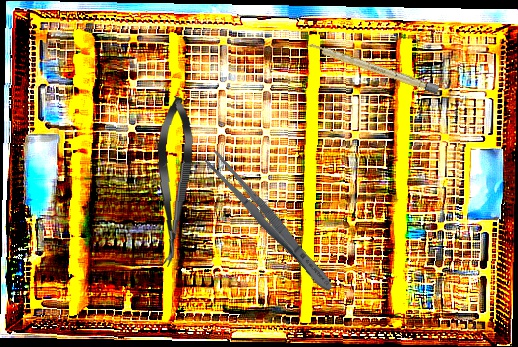Dressing Forceps: (201, 147, 339, 297)
Micro Scissor: (152, 95, 195, 269)
Scalpel Handle: (305, 40, 440, 95)
